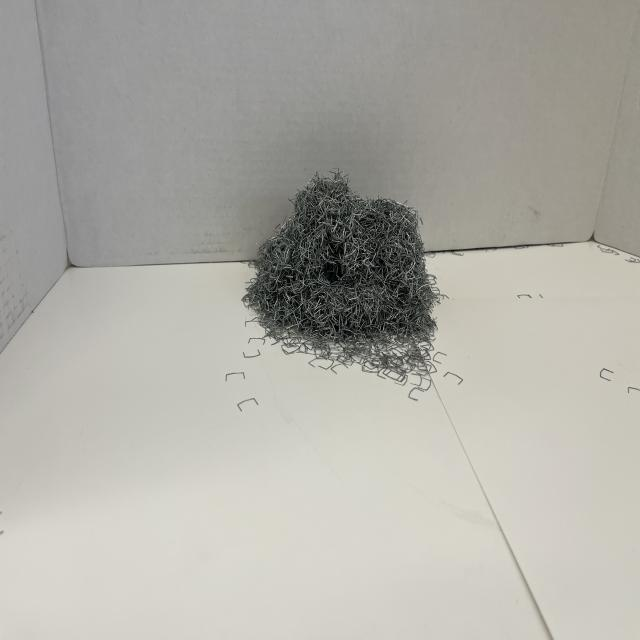staples: (242, 167, 440, 347)
